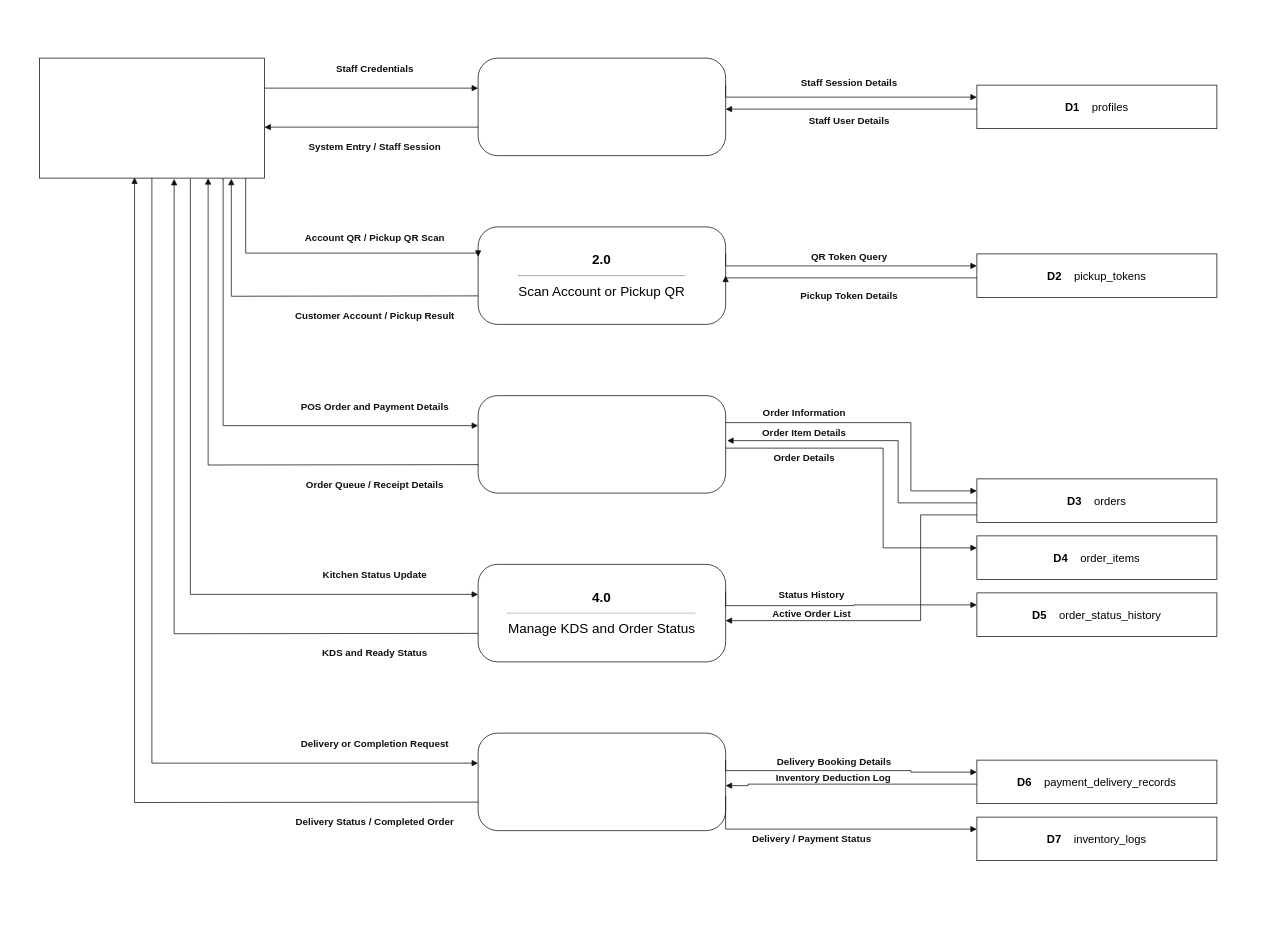
Image size: 1286x941. Some labels were removed from this diagram. Each missing label, with the centre of its shape:
"1.0 Login and Access POS" belongs at point (601, 106).
"3.0 Create and Process POS Order" belongs at point (601, 444).
"5.0 Book Delivery and Complete Order" belongs at point (601, 781).
"STAFF / POS" belongs at point (151, 117).
